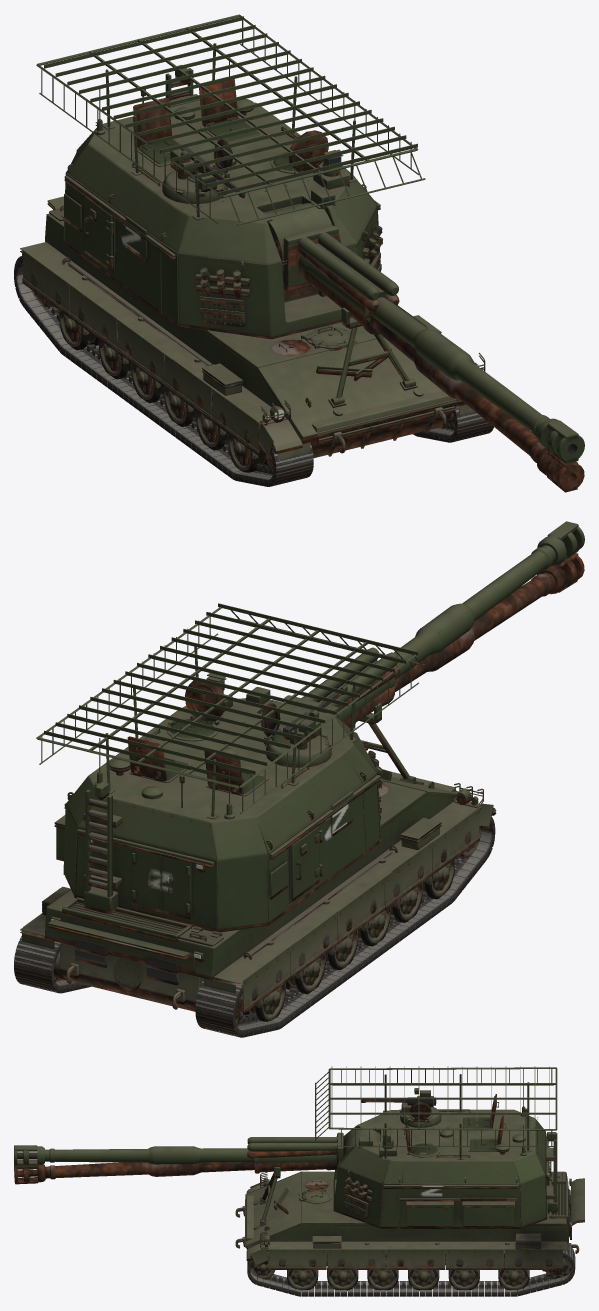
File: msta_s.glb
3 views of the same model, one above another, from view 1: azimuth 30°, elevation 25°; view 2: azimuth 150°, elevation 25°; view 3: azimuth 270°, elevation 25° (orthographic). The views are drawn at different scales.
Parts seen in each view (by area): view 1: turret_geo, hull_geo, cope_cage, turret_wreck, hull_wreck, gun_geo, track_R, travel_lock_geo, track_L, hatch_lid_loader_roof_L_geo; view 2: turret_geo, hull_geo, cope_cage, hull_wreck, turret_wreck, gun_geo, track_R, track_L; view 3: turret_geo, hull_geo, turret_wreck, cope_cage, gun_geo, hull_wreck, track_L, roadwheel_L3_geo, roadwheel_L6_geo, roadwheel_L5_geo, roadwheel_L2_geo, roadwheel_L4_geo (+3 smaller).
Part boxes in pixels (x1,y1,x2,y2): turret_geo: (63,61,382,337); hull_geo: (20,196,485,459); cope_cage: (36,14,425,225); turret_wreck: (63,61,584,492); hull_wreck: (14,203,493,486); gun_geo: (265,203,584,463); track_R: (14,255,313,484); travel_lock_geo: (328,307,417,408); track_L: (419,406,488,439); hatch_lid_loader_roof_L_geo: (204,117,259,142); turret_geo: (54,673,382,929); hull_geo: (20,769,496,1010); cope_cage: (36,603,425,819); hull_wreck: (14,717,496,1037); turret_wreck: (54,553,584,932); gun_geo: (261,521,584,721); track_R: (195,817,495,1034); track_L: (14,936,85,990); turret_geo: (333,1085,557,1226); hull_geo: (235,1171,584,1268); turret_wreck: (14,1092,557,1228); cope_cage: (315,1066,557,1159); gun_geo: (14,1127,380,1175); hull_wreck: (235,1174,584,1296); track_L: (247,1243,575,1294); roadwheel_L3_geo: (367,1258,398,1289); roadwheel_L6_geo: (498,1258,529,1289); roadwheel_L5_geo: (448,1270,479,1289); roadwheel_L2_geo: (327,1268,358,1289); roadwheel_L4_geo: (408,1270,439,1289).
Size of what is drawn, in the model's own units: 3.52 by 3.93 by 12.21.
6 materials, 4 textured.
